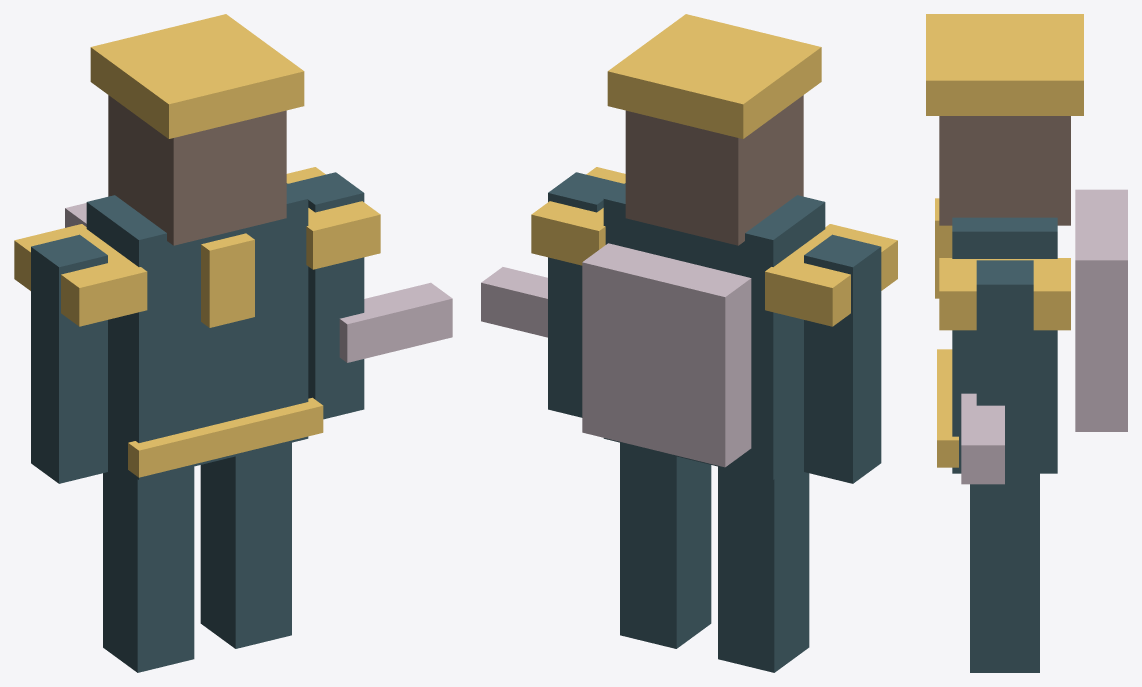
File: 06_calder_tideforged_tactician_near_echo.glb
3 renders of one model, left to right at view 1: azimuth 30°, elevation 25°; view 2: azimuth 150°, elevation 25°; view 3: azimuth 270°, elevation 25°, orthographic.
Visible parts, largest first — view 1: Calder Tideforged, Tactician near Echo; view 2: Calder Tideforged, Tactician near Echo; view 3: Calder Tideforged, Tactician near Echo.
Part boxes in pixels (x1=…): Calder Tideforged, Tactician near Echo: x1=14, y1=14, x2=452, y2=672; Calder Tideforged, Tactician near Echo: x1=481, y1=14, x2=897, y2=672; Calder Tideforged, Tactician near Echo: x1=926, y1=14, x2=1127, y2=672.
Bounding box in the file's own units: 1.11 × 1.6 × 0.4967.
